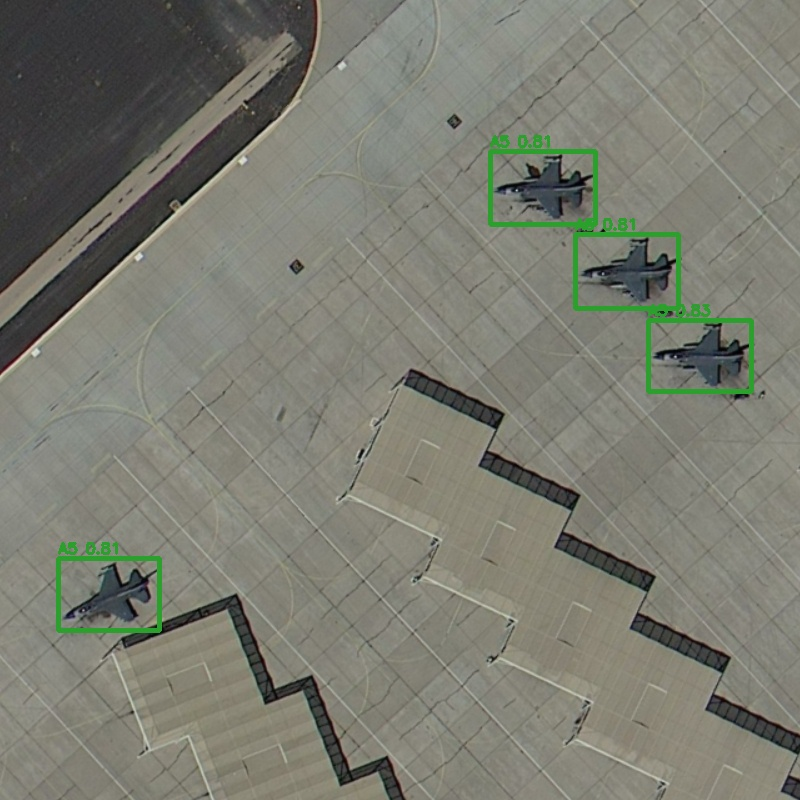A5: (490, 151, 595, 224), (575, 234, 678, 308), (648, 320, 751, 391), (58, 558, 159, 630)
